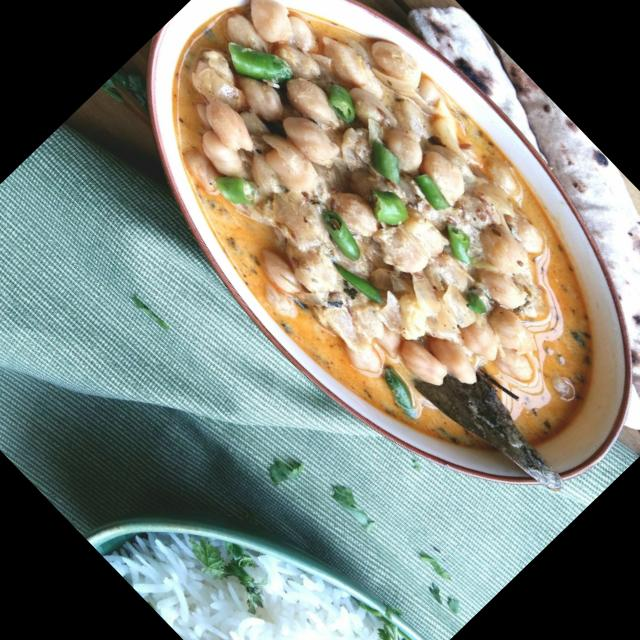Chole: (93, 0, 640, 522)
rice: (101, 439, 430, 640)
